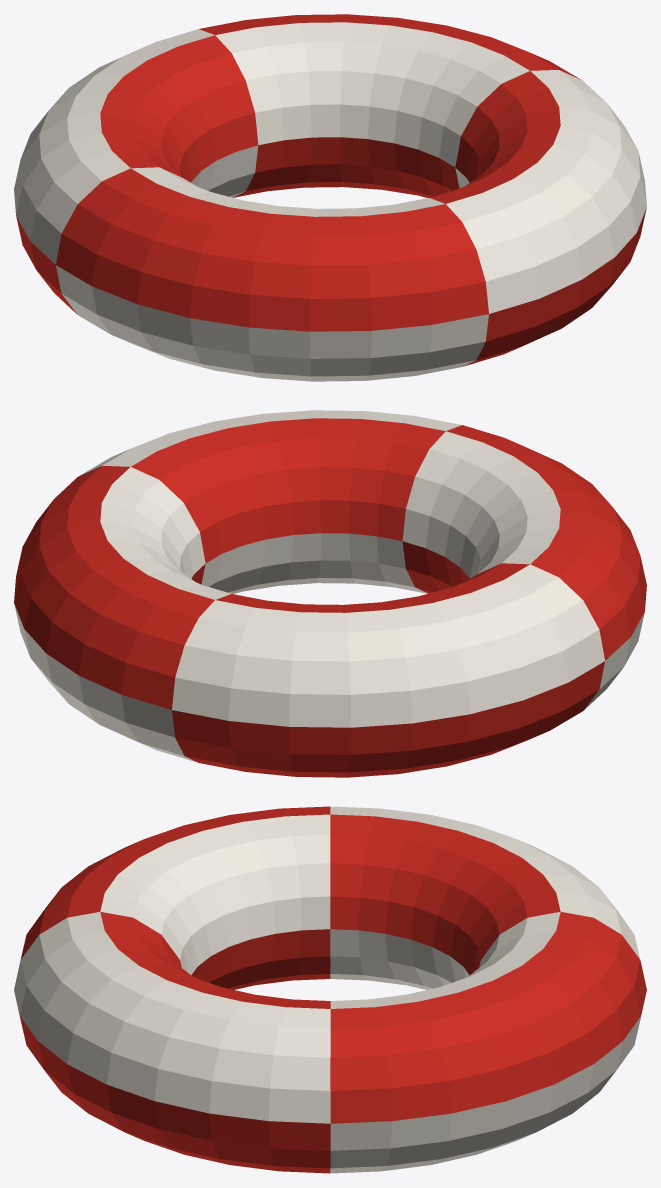
Rendered from fixture.obj.
3 views of the same model, one above another, from view 1: azimuth 30°, elevation 25°; view 2: azimuth 150°, elevation 25°; view 3: azimuth 270°, elevation 25° (orthographic).
Bounding box in the file's own units: 44 × 12 × 44.
1 material, 1 textured.
